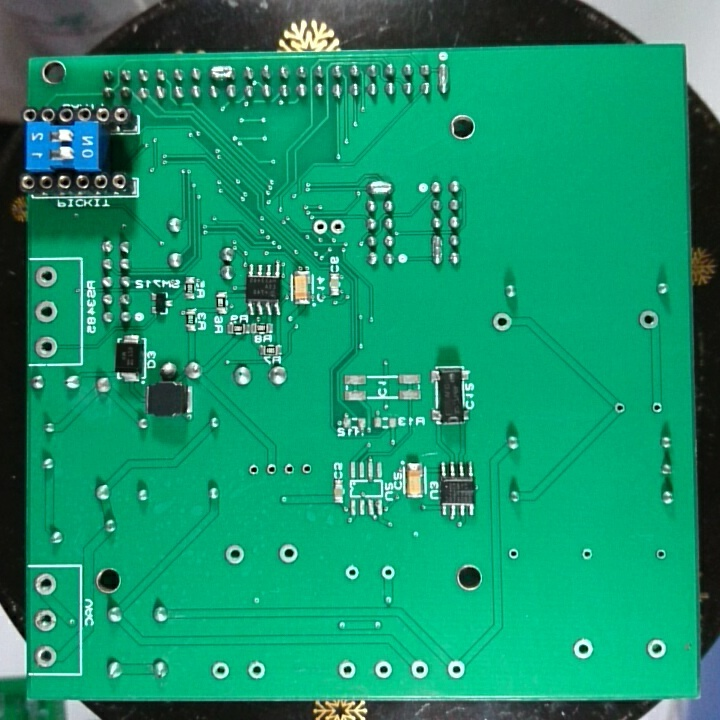F: (643, 633, 669, 666), (31, 605, 59, 635), (31, 569, 59, 599), (32, 332, 60, 361), (31, 643, 59, 671), (32, 298, 59, 326), (32, 263, 60, 290), (275, 540, 301, 566), (635, 306, 660, 333), (569, 636, 594, 663), (223, 541, 247, 568), (443, 657, 468, 682), (489, 310, 514, 334), (408, 656, 431, 682), (335, 658, 359, 682), (339, 561, 364, 584), (245, 659, 268, 682), (373, 658, 395, 682), (209, 660, 231, 682), (261, 458, 281, 482), (379, 561, 399, 585), (328, 215, 348, 238), (505, 543, 522, 565), (280, 458, 297, 480), (610, 398, 628, 418), (311, 217, 328, 238), (245, 460, 262, 481), (648, 398, 666, 417), (299, 458, 313, 482), (578, 544, 595, 563), (653, 544, 668, 565)
P: (435, 60, 451, 99), (429, 232, 446, 268), (365, 177, 394, 197), (208, 63, 235, 80)
